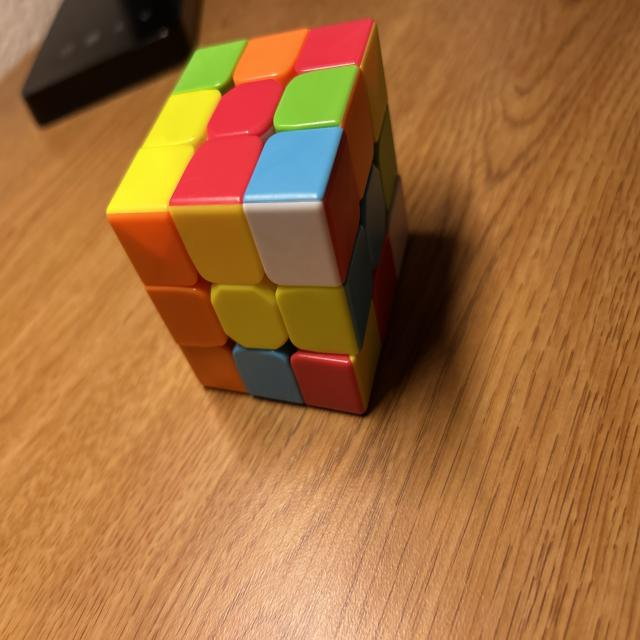Rubiks Cube: (105, 21, 410, 415)
